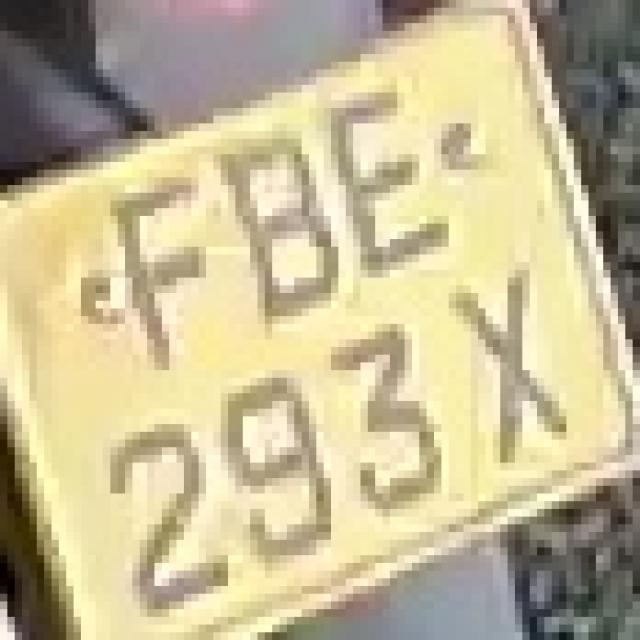2: (74, 416, 235, 624)
3: (302, 331, 448, 509)
9: (198, 378, 346, 594)
B: (206, 116, 353, 339)
E: (324, 85, 464, 270)
F: (110, 139, 214, 378)
X: (419, 270, 581, 493)
